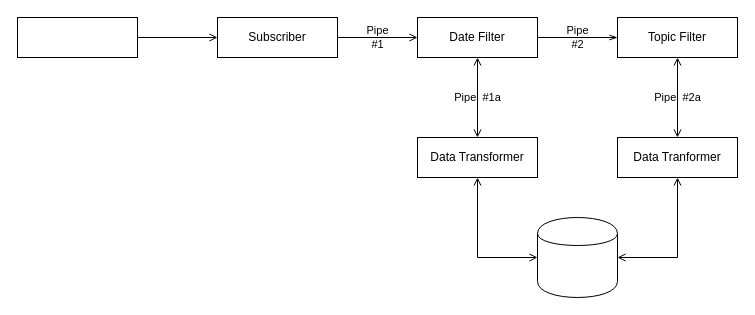
Some shapes in this 755 by 315 pixel diagram are drawn without their labels. Each missing label, with the centre of its shape:
"Persistence" belongs at point (577, 257).
"Publisher" belongs at point (77, 37).
